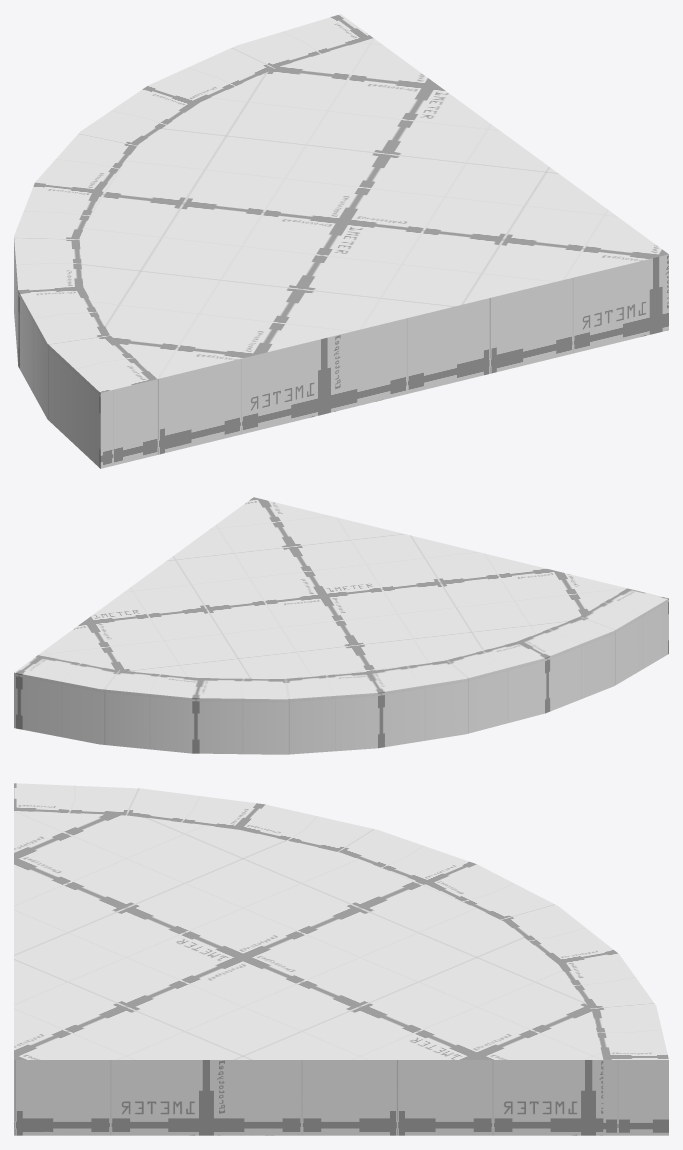
File: ACERA_esquina.fbx
3 renders of one model, top to bottom at view 1: azimuth 30°, elevation 25°; view 2: azimuth 150°, elevation 25°; view 3: azimuth 270°, elevation 25°, orthographic. The views are drawn at different scales.
Parts seen in each view (by area): view 1: ACERA_esquina; view 2: ACERA_esquina; view 3: ACERA_esquina.
Boxes of the visible parts, left/top/right/bottom form: ACERA_esquina: left=14, top=14, right=668, bottom=468; ACERA_esquina: left=14, top=497, right=668, bottom=754; ACERA_esquina: left=14, top=783, right=668, bottom=1135.
Bounding box in the file's own units: 1.99 × 0.2541 × 1.99.
